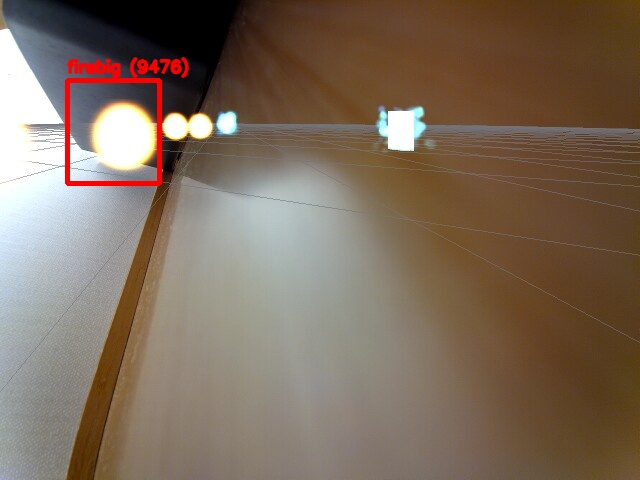firebig: (67, 80, 159, 183)
